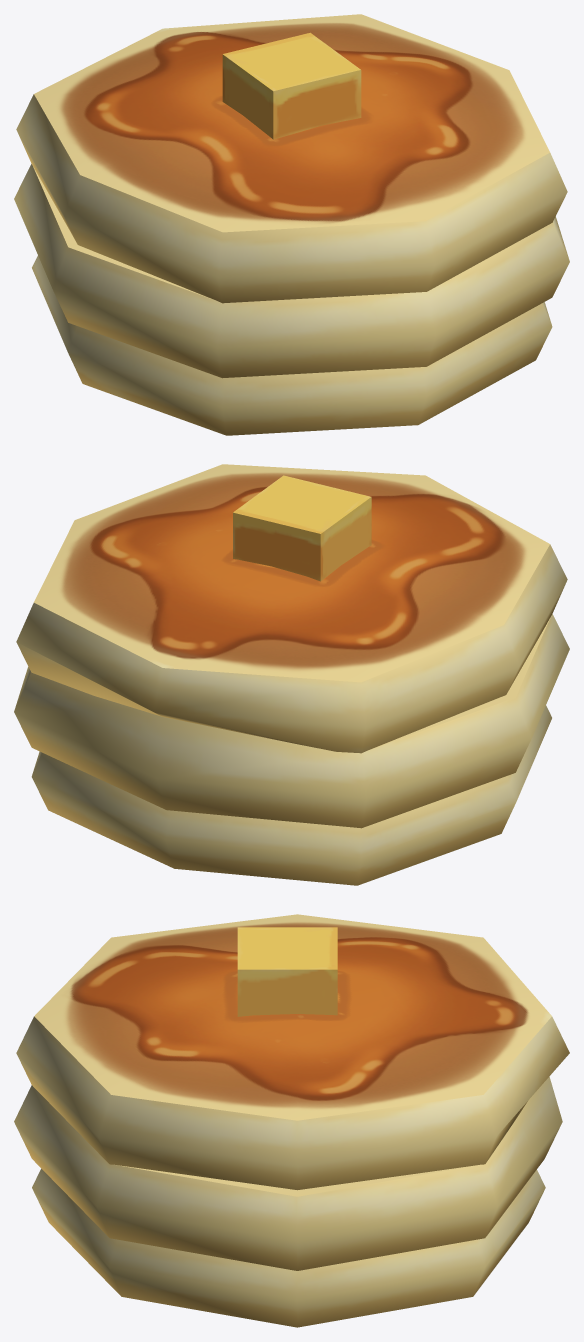
Rendered from pancakes-low-poly.fbx.
The picture shows the model from 3 angles, top to bottom: view 1: azimuth 30°, elevation 25°; view 2: azimuth 150°, elevation 25°; view 3: azimuth 270°, elevation 25°; orthographic projection.
Visible parts, largest first — view 1: taco; view 2: taco; view 3: taco.
Part boxes in pixels (<box>): taco: <box>14,14,569,435</box>; taco: <box>14,464,569,885</box>; taco: <box>14,914,569,1327</box>.
Bounding box in the file's own units: 16.35 × 8.81 × 16.35.
Materials: 1 (1 with a texture image).
